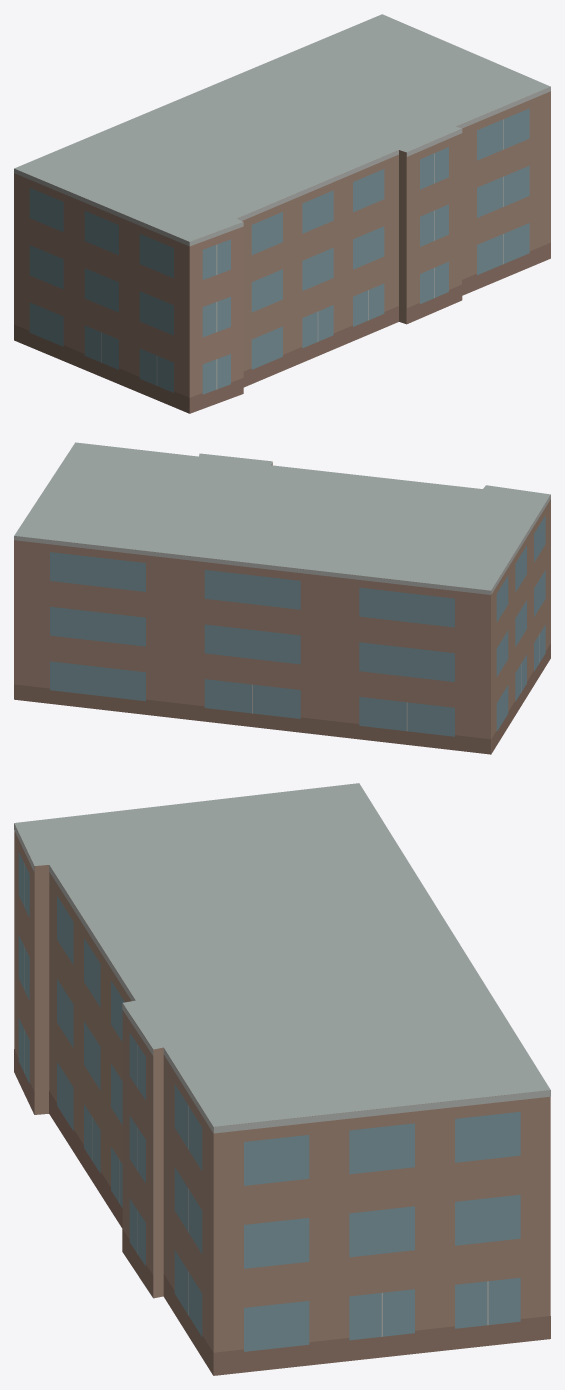
The model's file is survey-upis-32649304.glb.
3 views of the same model, one above another, from view 1: azimuth 30°, elevation 25°; view 2: azimuth 150°, elevation 25°; view 3: azimuth 270°, elevation 25° (orthographic). The views are drawn at different scales.
Parts seen in each view (by area): view 1: survey-upis-32649304.tmp; view 2: survey-upis-32649304.tmp; view 3: survey-upis-32649304.tmp.
Part boxes in pixels (box(x1,y1,x2,y2)): survey-upis-32649304.tmp: box(14, 14, 550, 413); survey-upis-32649304.tmp: box(14, 442, 550, 754); survey-upis-32649304.tmp: box(14, 783, 550, 1375).
Bounding box in the file's own units: 27.11 × 9.15 × 17.89.
